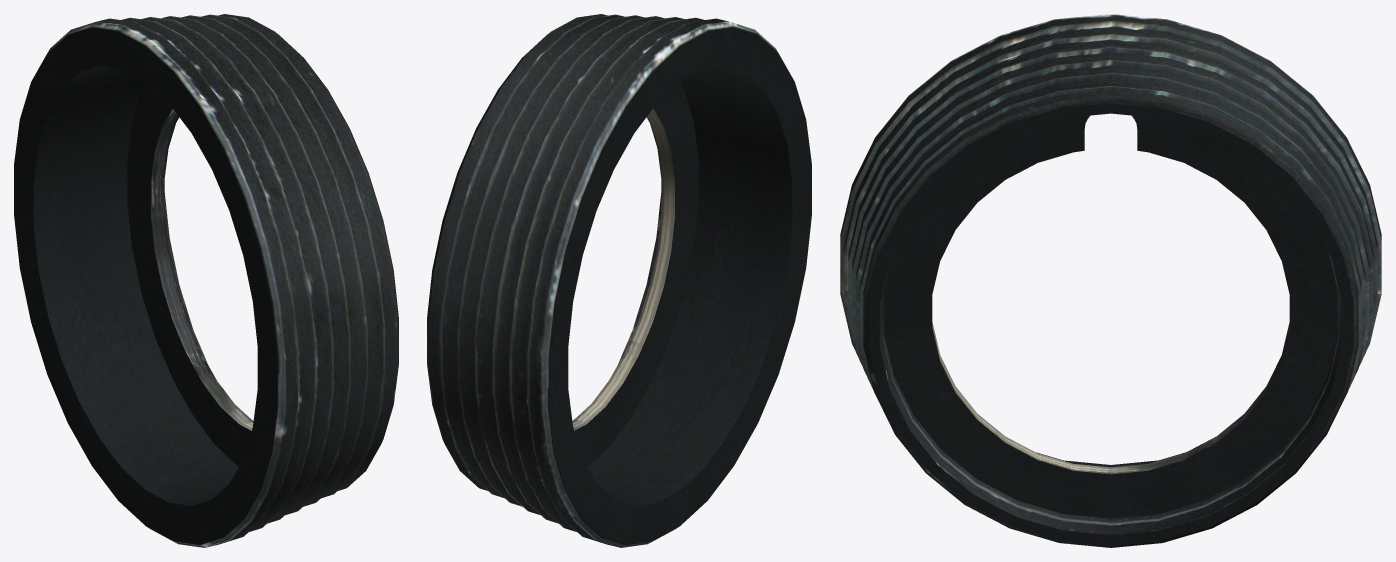
Rendered from Handguard_Slip_Ring_LAMA918813252.dae.
3 renders of one model, left to right at view 1: azimuth 30°, elevation 25°; view 2: azimuth 150°, elevation 25°; view 3: azimuth 270°, elevation 25°, orthographic.
Parts seen in each view (by area): view 1: Handguard_Slip_Ring_LAMA918813252; view 2: Handguard_Slip_Ring_LAMA918813252; view 3: Handguard_Slip_Ring_LAMA918813252.
Boxes of the visible parts, x1,y1,x2,y2 form: Handguard_Slip_Ring_LAMA918813252: (14,14,398,547); Handguard_Slip_Ring_LAMA918813252: (427,14,811,547); Handguard_Slip_Ring_LAMA918813252: (840,14,1381,547).
Bounding box in the file's own units: 0.0149 × 0.0517 × 0.052.
Materials: 1 (1 with a texture image).
